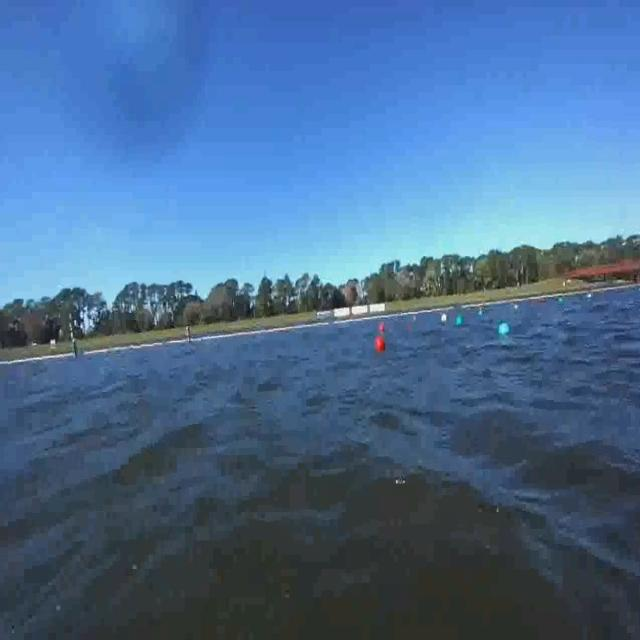green-buoy: (498, 323, 510, 339), (456, 315, 464, 327)
red-buoy: (376, 336, 387, 354)
yellow-buoy: (440, 312, 448, 324)
